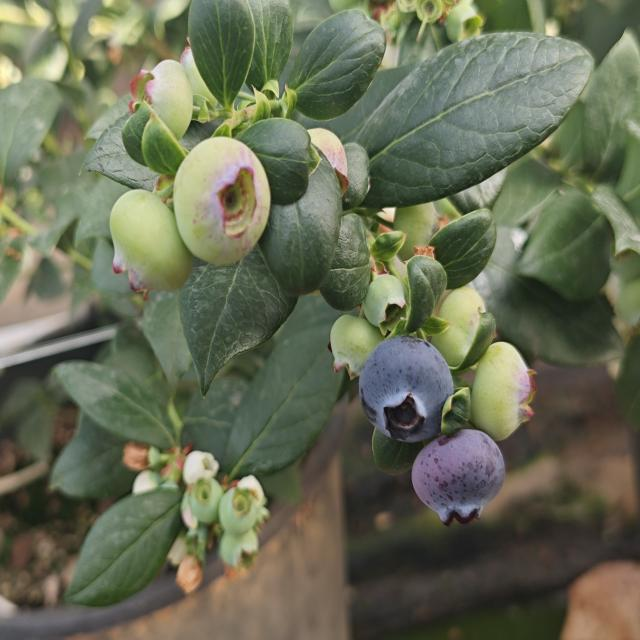ripe: (352, 333, 460, 446), (401, 429, 509, 528)
